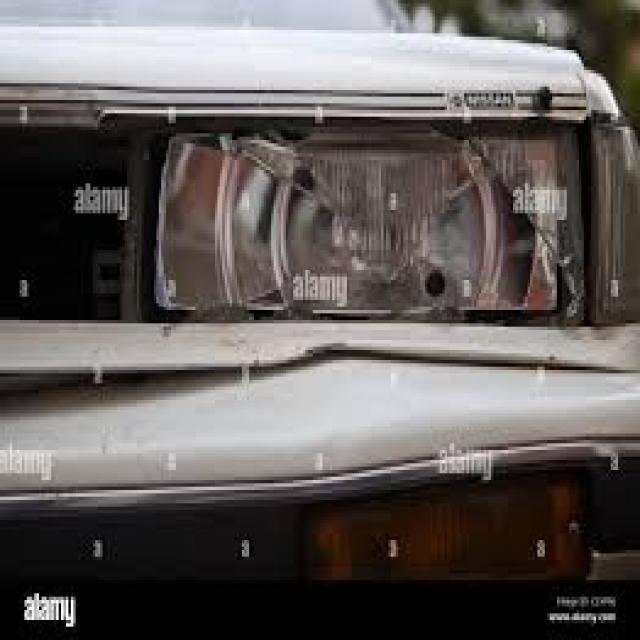damaged-head-light: (132, 117, 640, 330)
